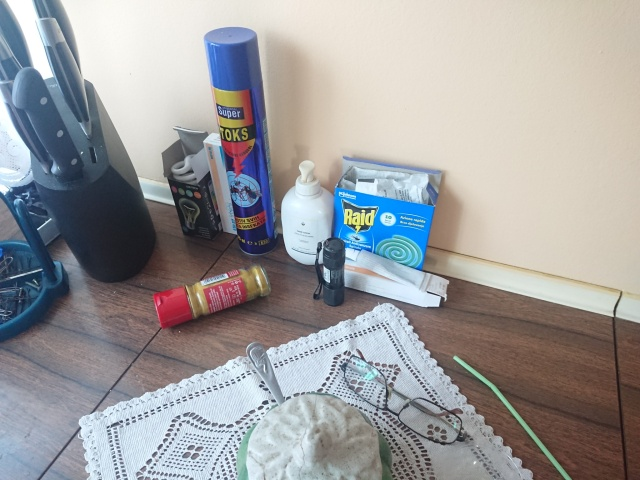Kotanyi Curry Spices Mix 70g: (150, 261, 273, 331)
